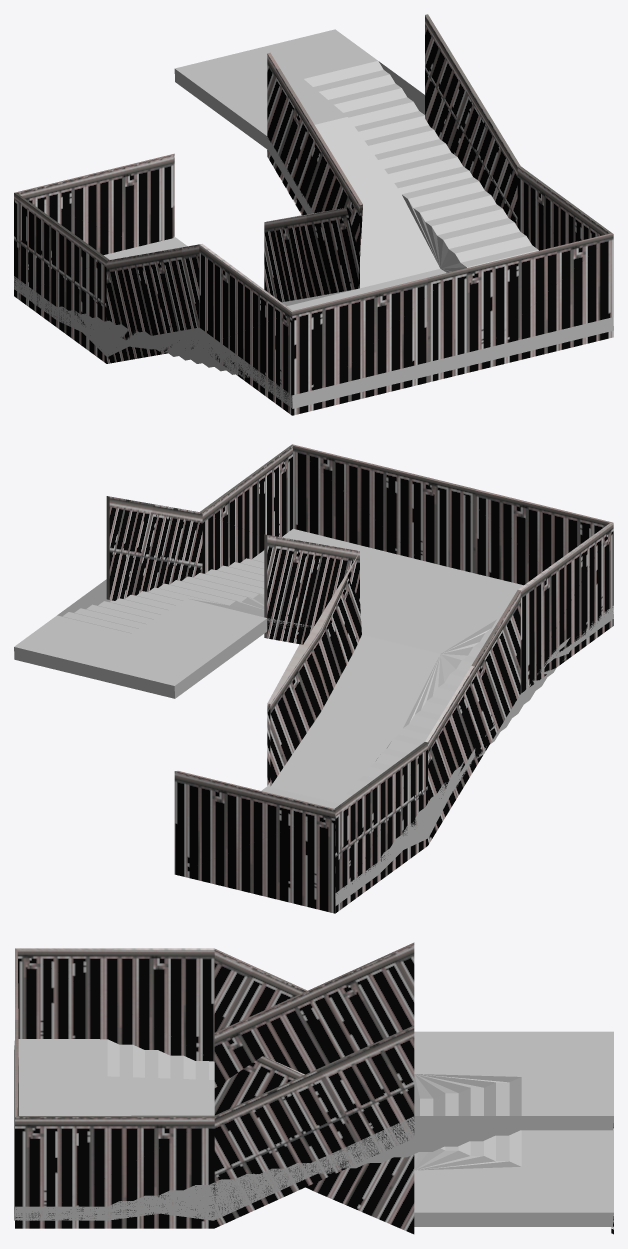
Rendered from yk_stairwell_C.fbx.
The picture shows the model from 3 angles, top to bottom: view 1: azimuth 30°, elevation 25°; view 2: azimuth 150°, elevation 25°; view 3: azimuth 270°, elevation 25°; orthographic projection. The views are drawn at different scales.
Parts seen in each view (by area): view 1: stairwell_kaide, stairwell; view 2: stairwell_kaide, stairwell; view 3: stairwell_kaide, stairwell.
Part boxes in pixels (x1,y1,x2,y2): stairwell_kaide: [14, 14, 613, 415]; stairwell: [14, 29, 613, 408]; stairwell_kaide: [106, 444, 613, 913]; stairwell: [14, 528, 613, 905]; stairwell_kaide: [15, 942, 613, 1234]; stairwell: [14, 1031, 613, 1226].
Bounding box in the file's own units: 400 × 323 × 601.
